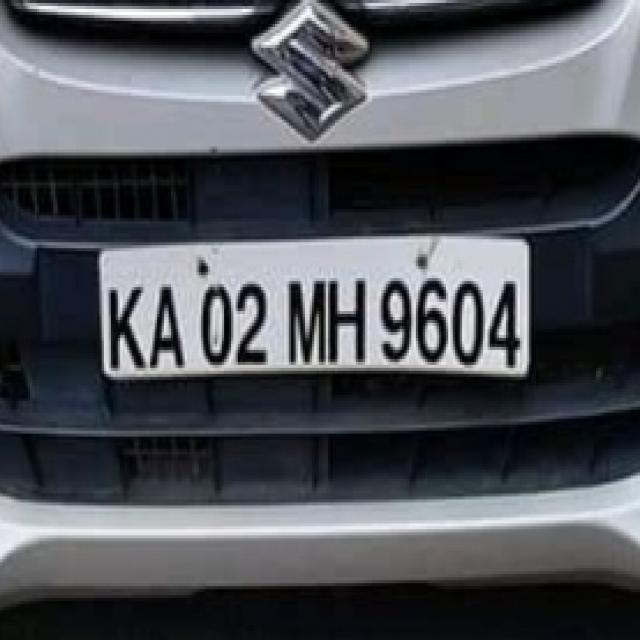0: (196, 279, 235, 371), (451, 275, 487, 367)
4: (485, 278, 524, 370)
6: (415, 272, 449, 366)
9: (378, 275, 414, 370)
A: (151, 277, 189, 375)
H: (327, 272, 369, 370)
K: (106, 280, 147, 374)
M: (284, 271, 327, 375)
